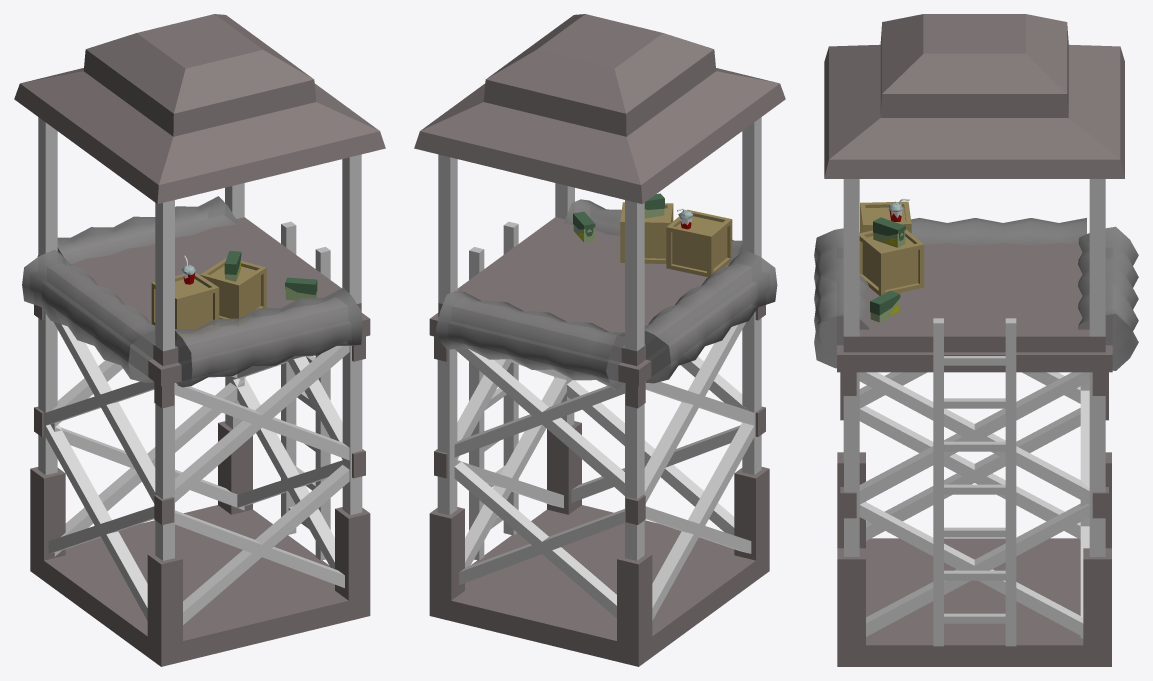
The model's file is Prop_GuardTowerGood_Mod_01.fbx.
3 renders of one model, left to right at view 1: azimuth 30°, elevation 25°; view 2: azimuth 150°, elevation 25°; view 3: azimuth 270°, elevation 25°, orthographic. The views are drawn at different scales.
Visible parts, largest first — view 1: GuardTowerBase, GuardTowerTop, TowerFloor, Crate, Crate1, AmmoBox5; view 2: GuardTowerBase, GuardTowerTop, TowerFloor, Crate1, Crate, AmmoBox5; view 3: GuardTowerBase, GuardTowerTop, TowerFloor, Crate, Crate1, AmmoBox4, AmmoBox5.
Part boxes in pixels (x1,y1,x2,y2): GuardTowerBase: [30, 221, 370, 666]; GuardTowerTop: [14, 14, 385, 387]; TowerFloor: [42, 215, 370, 386]; Crate: [200, 257, 266, 325]; Crate1: [151, 272, 219, 339]; AmmoBox5: [285, 277, 317, 300]; GuardTowerBase: [429, 221, 769, 666]; GuardTowerTop: [414, 14, 785, 390]; TowerFloor: [429, 217, 757, 386]; Crate1: [666, 209, 732, 276]; Crate: [620, 202, 673, 263]; AmmoBox5: [573, 211, 595, 242]; GuardTowerBase: [837, 318, 1111, 666]; GuardTowerTop: [814, 14, 1138, 370]; TowerFloor: [837, 235, 1112, 372]; Crate: [859, 229, 924, 295]; Crate1: [860, 201, 911, 233]; AmmoBox4: [873, 217, 905, 247]; AmmoBox5: [870, 290, 900, 322].
Bounding box in the file's own units: 13.52 × 29.9 × 15.19.
